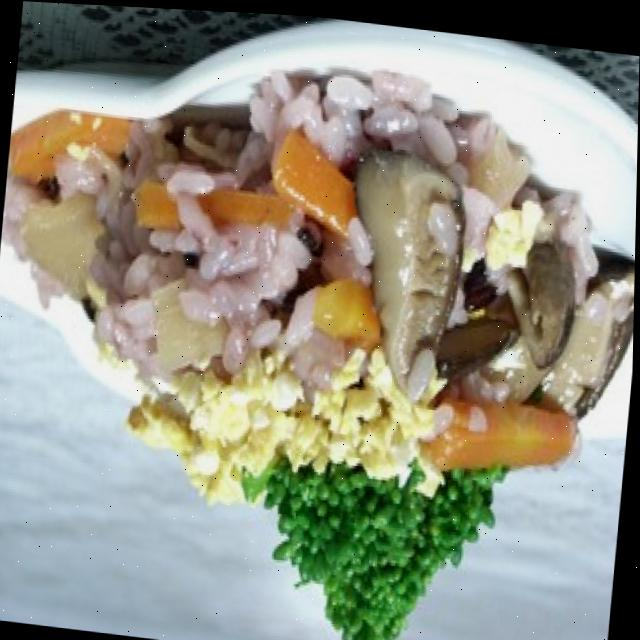寿司卷物: (0, 0, 640, 628)
